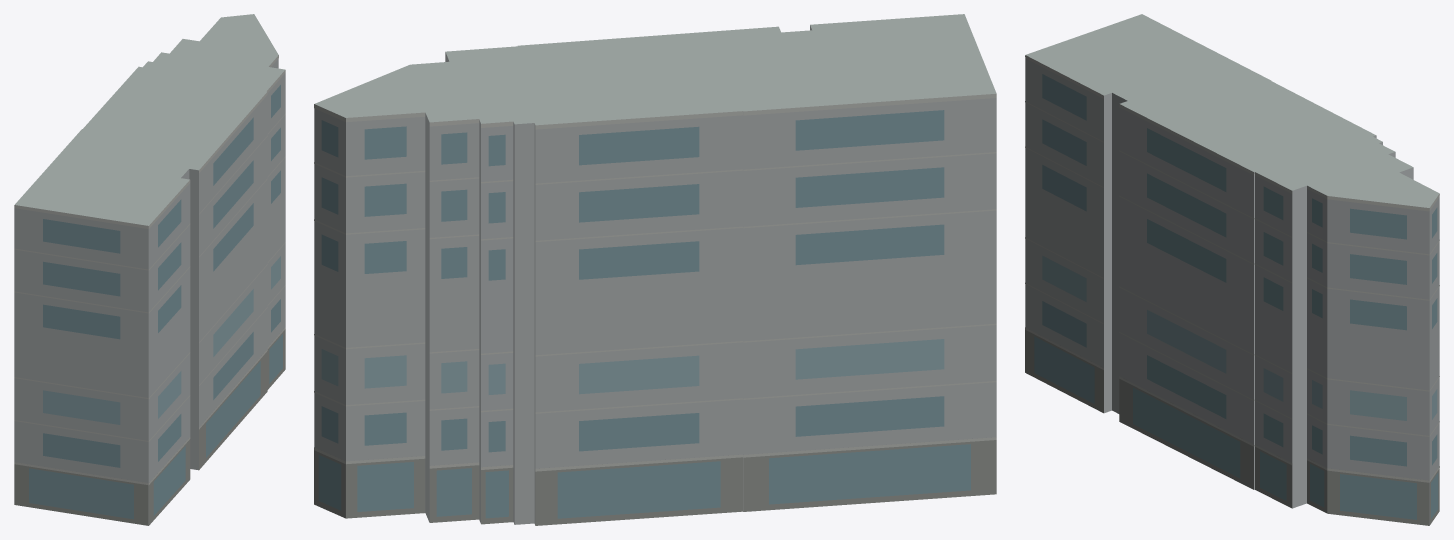
File: survey-upis-33045125.glb
3 renders of one model, left to right at view 1: azimuth 30°, elevation 25°; view 2: azimuth 150°, elevation 25°; view 3: azimuth 270°, elevation 25°, orthographic. The views are drawn at different scales.
Parts seen in each view (by area): view 1: survey-upis-33045125.tmp; view 2: survey-upis-33045125.tmp; view 3: survey-upis-33045125.tmp.
Part boxes in pixels (<box>): survey-upis-33045125.tmp: <box>14,14,285,525</box>; survey-upis-33045125.tmp: <box>314,14,996,525</box>; survey-upis-33045125.tmp: <box>1025,14,1439,525</box>.
Bounding box in the file's own units: 29.89 × 22.8 × 26.97.
